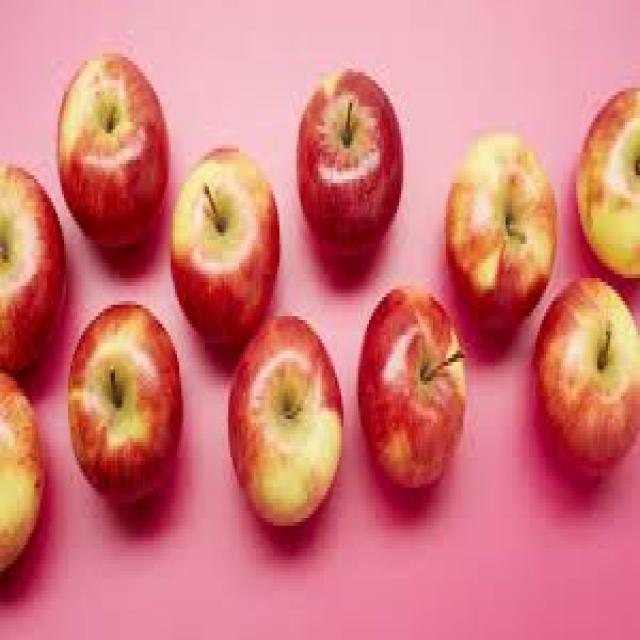Apple: (226, 312, 344, 526), (444, 130, 557, 340), (168, 140, 280, 350), (66, 301, 181, 503), (55, 50, 168, 252), (356, 282, 465, 488), (294, 65, 404, 263), (531, 274, 638, 476), (0, 160, 66, 373), (574, 84, 638, 278), (0, 369, 45, 572)
